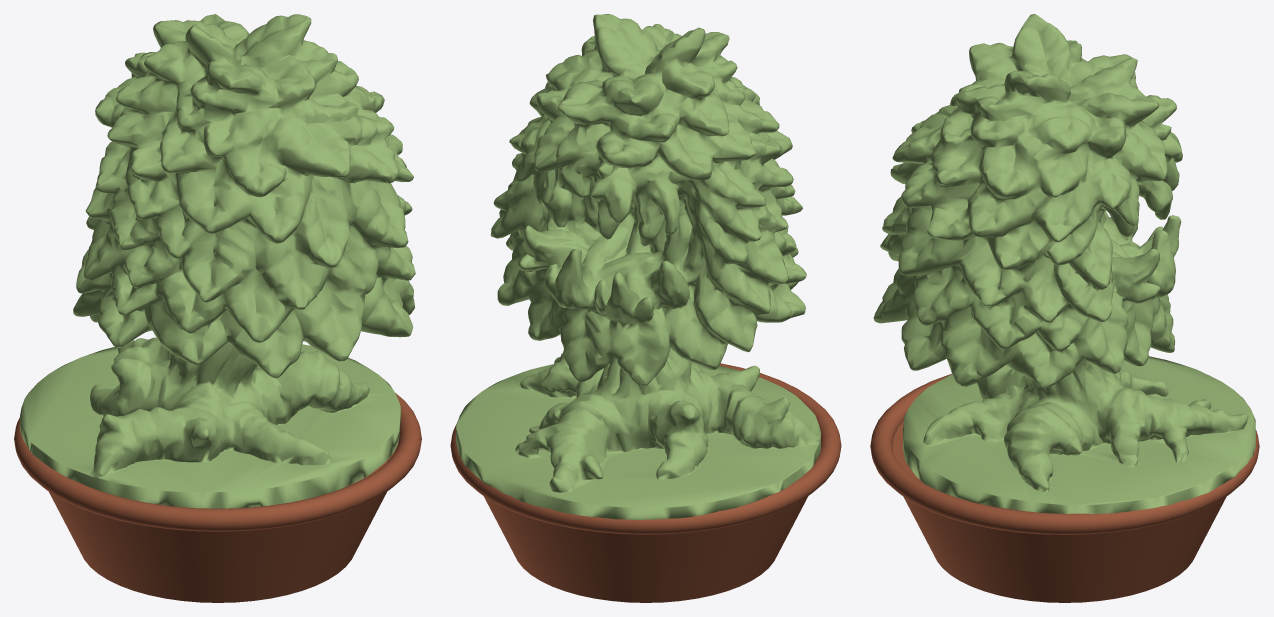
The model's file is potted-shrub.glb.
3 views of the same model, side by side, from view 1: azimuth 30°, elevation 25°; view 2: azimuth 150°, elevation 25°; view 3: azimuth 270°, elevation 25° (orthographic). The views are drawn at different scales.
Parts seen in each view (by area): view 1: awakened-shrub, Awakened shrub in a terracotta pot; view 2: awakened-shrub, Awakened shrub in a terracotta pot; view 3: awakened-shrub, Awakened shrub in a terracotta pot.
Part boxes in pixels (x1,y1,x2,y2): awakened-shrub: (20,14,415,508); Awakened shrub in a terracotta pot: (14,393,421,602); awakened-shrub: (456,14,820,519); Awakened shrub in a terracotta pot: (450,363,841,602); awakened-shrub: (873,14,1255,513); Awakened shrub in a terracotta pot: (870,374,1259,602).
Bounding box in the file's own units: 20.92 × 30.47 × 20.92.
